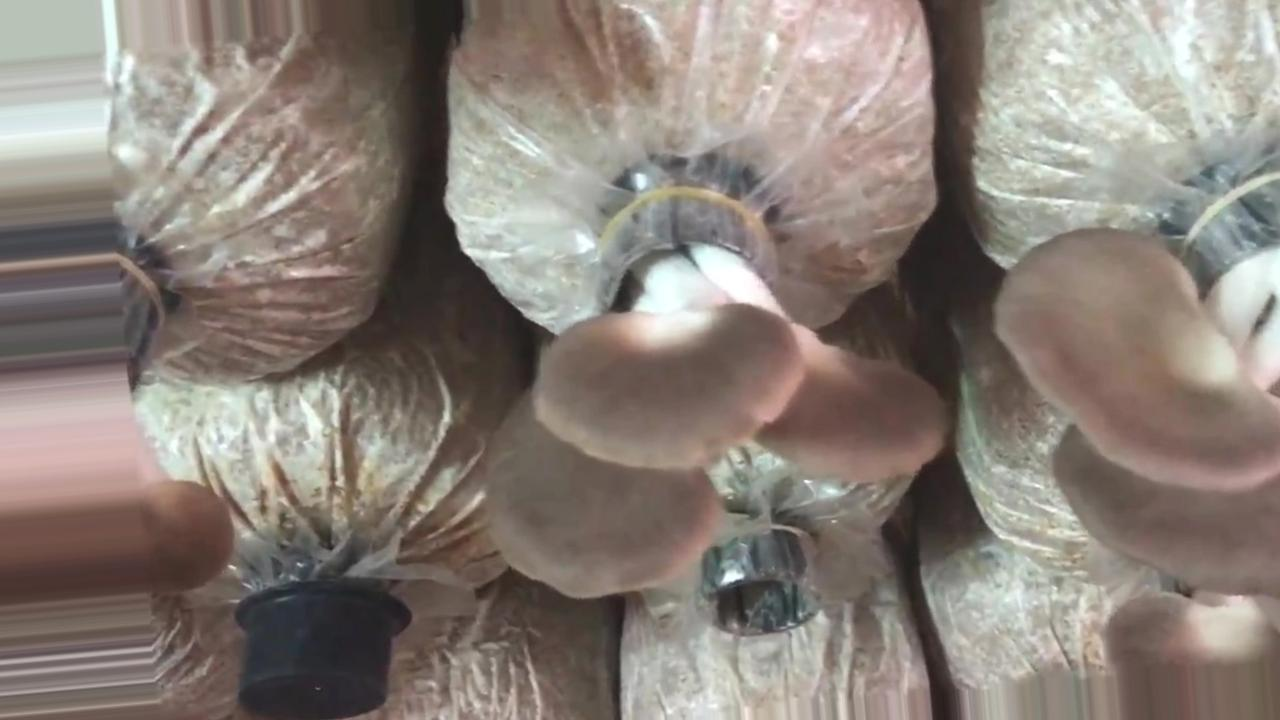nam: (488, 196, 945, 600), (995, 192, 1280, 588), (1, 224, 232, 602), (1107, 595, 1280, 716)
